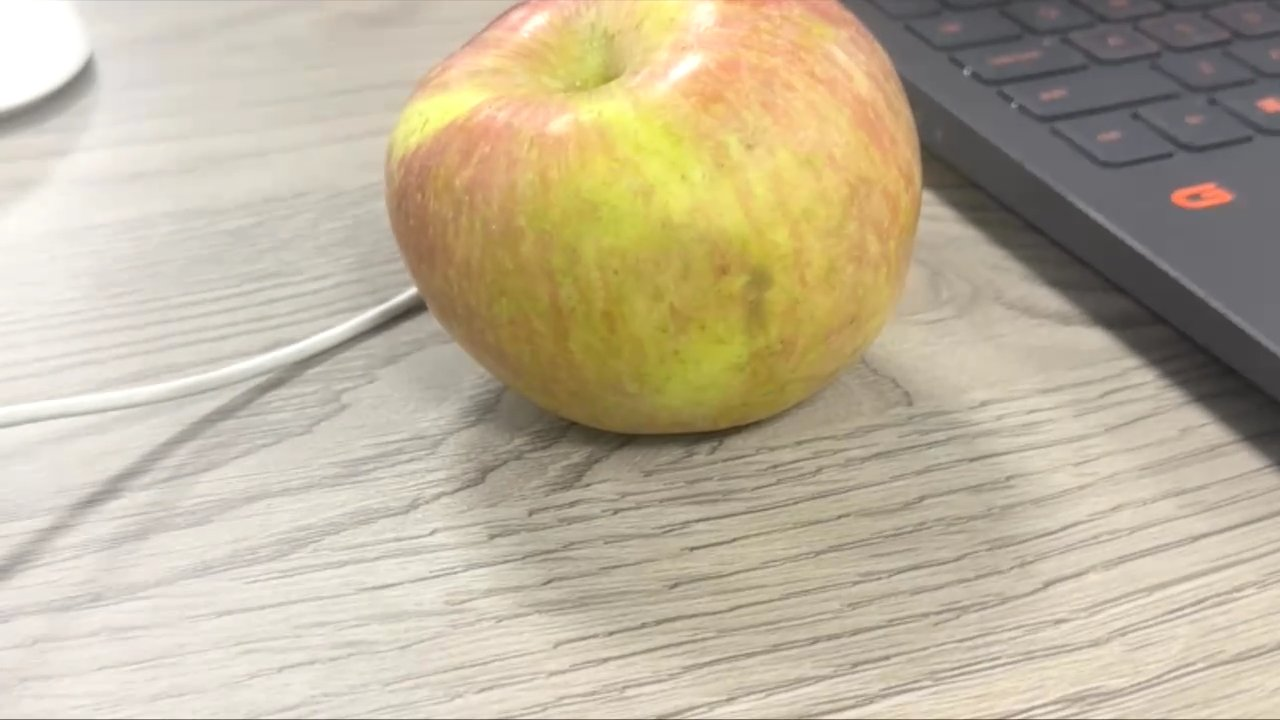apple_rotten: (370, 3, 942, 444)
